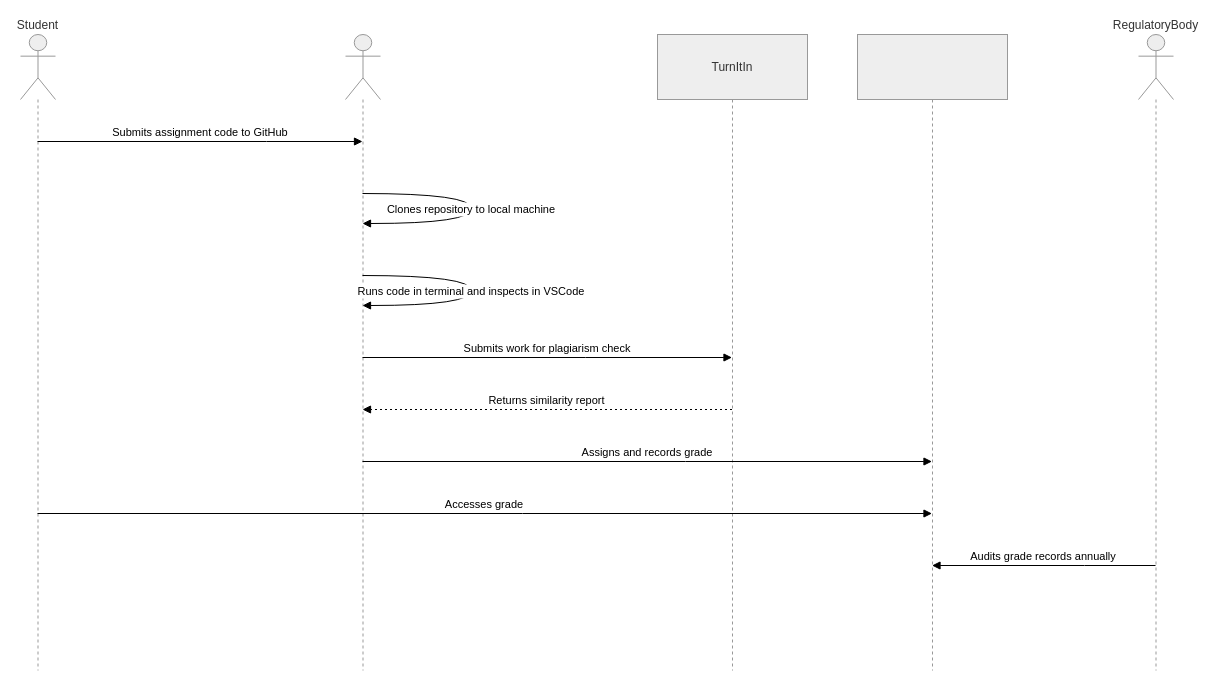
This 1215x688 diagram has some shape labels left out. The box of each missing label's shape, as (x1, y1, x2, y2) in pixels:
LMS: (856, 34, 1008, 670)
Professor: (344, 34, 380, 670)
